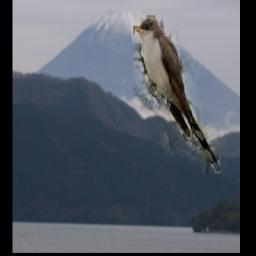Cuckoo: (133, 17, 220, 174)
